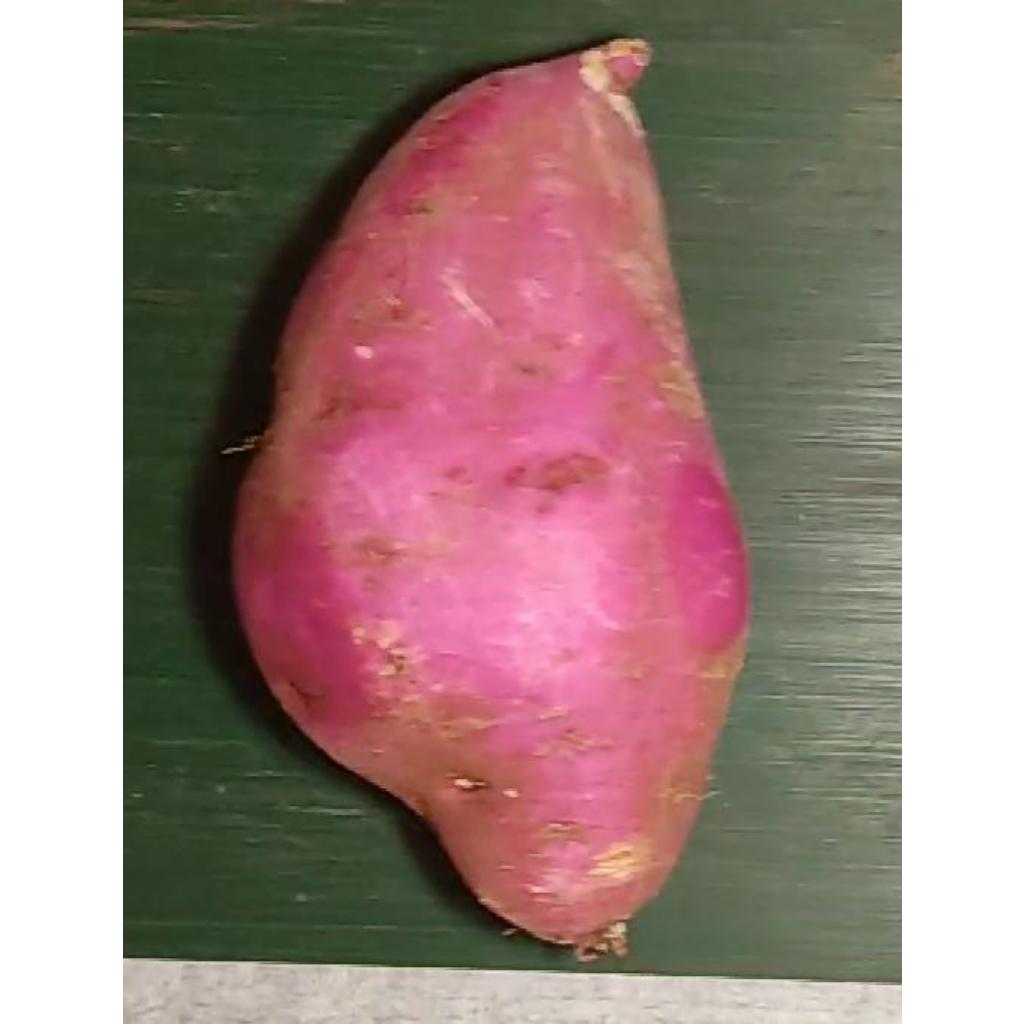Sweet Potato: (228, 37, 752, 960)
